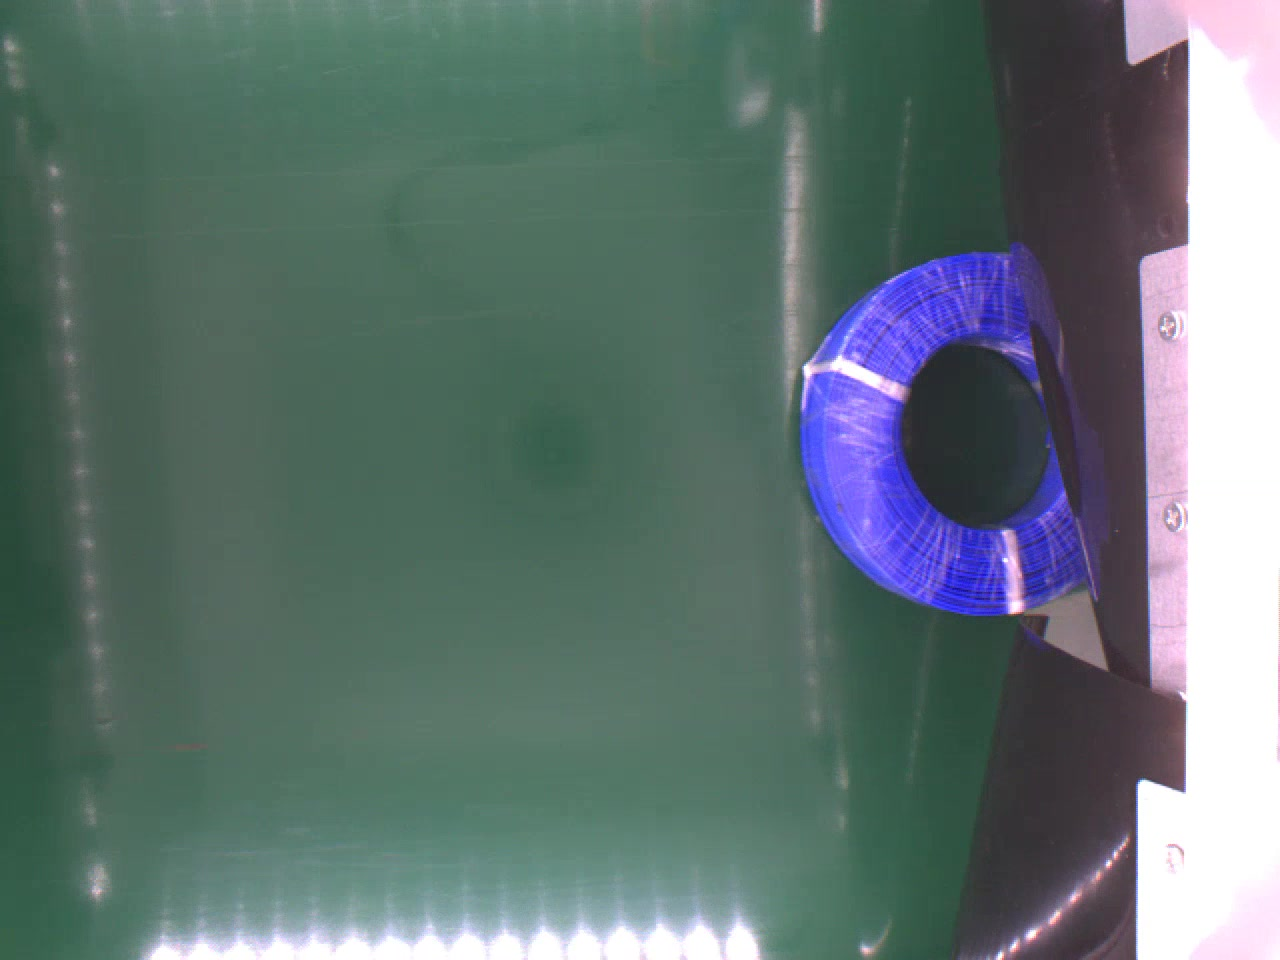blue: (799, 241, 1085, 615)
